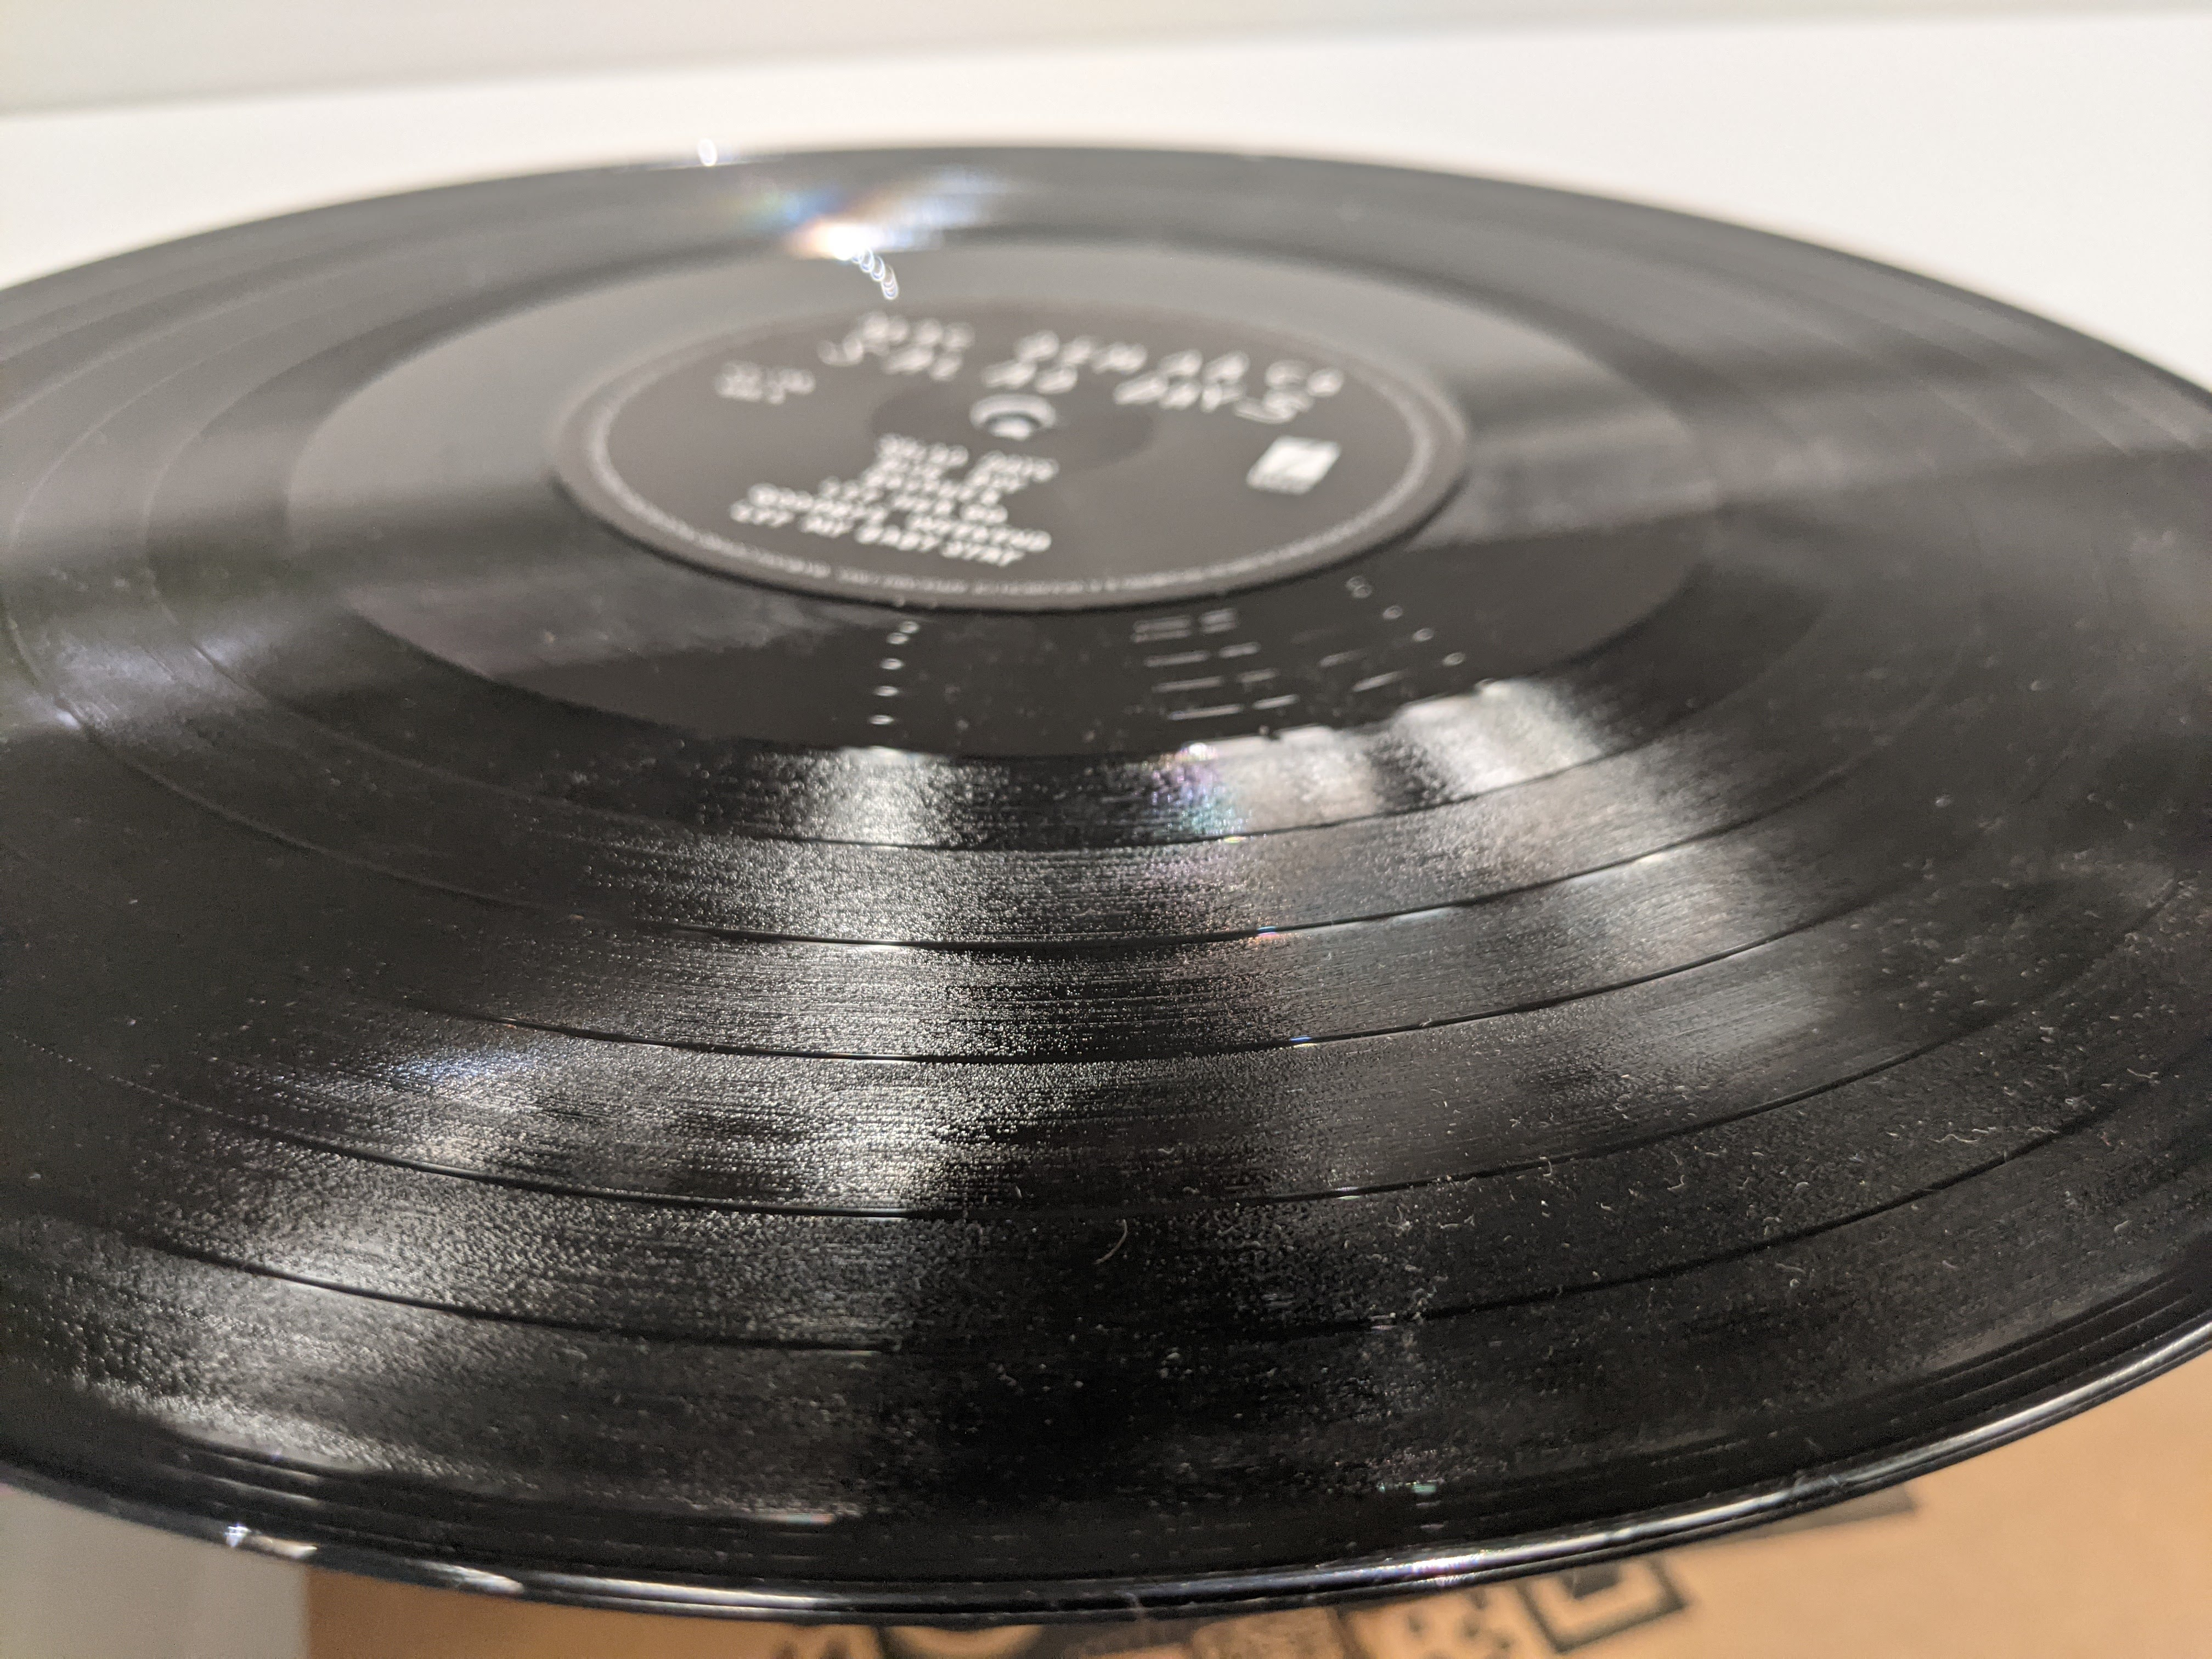song_edge: (387, 1112, 653, 1243), (303, 1243, 589, 1363), (528, 990, 737, 1087), (611, 896, 810, 972), (883, 823, 1066, 885)
